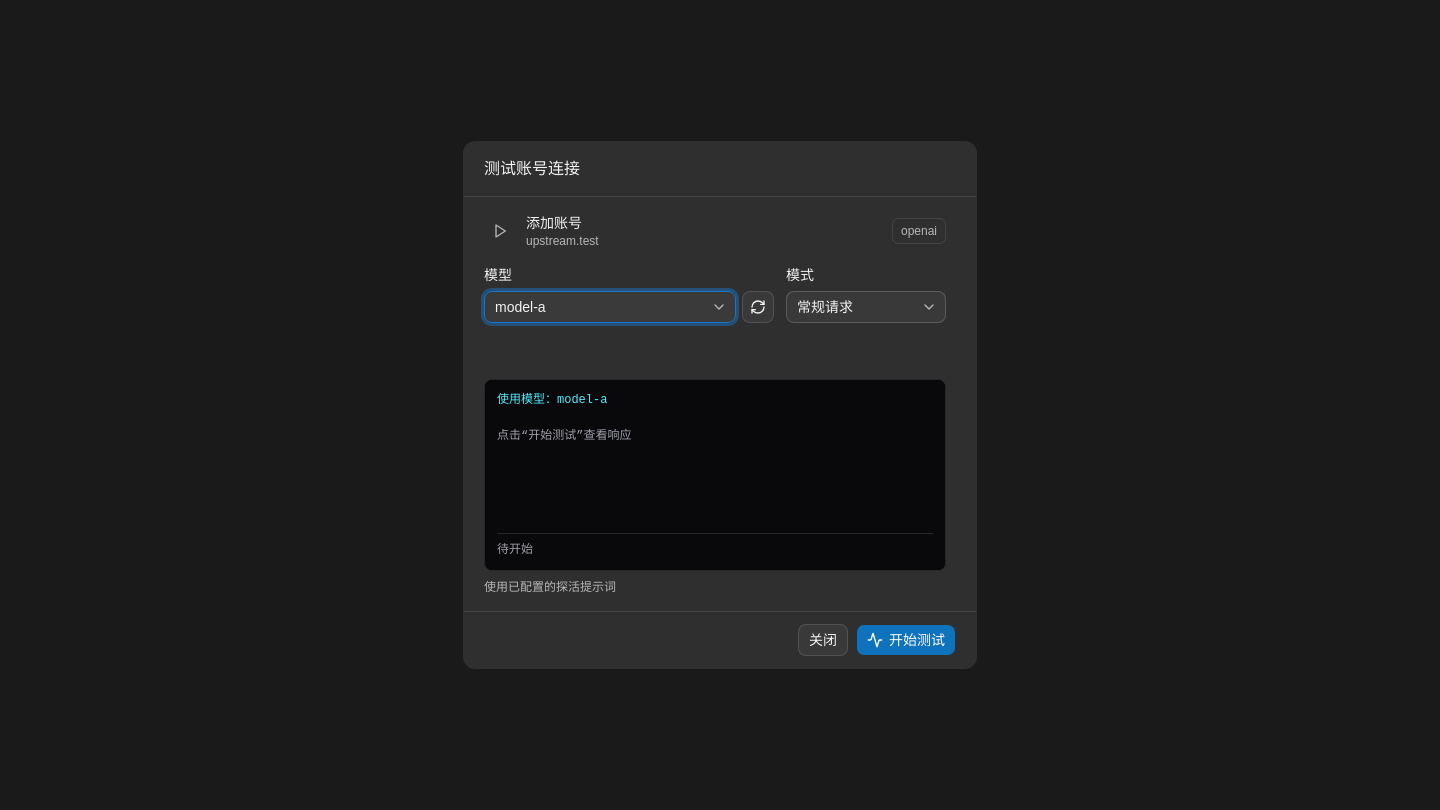
it: 动画生成失败时展示实际原因，保留重试入口且不显示预览
Expected: the button "开始测试" is enabled, top-left (856, 624), bottom-right (956, 656)
Click the dropdown named "选择测试模式": coordinates (866, 307) top-left (786, 291), bottom-right (946, 323)
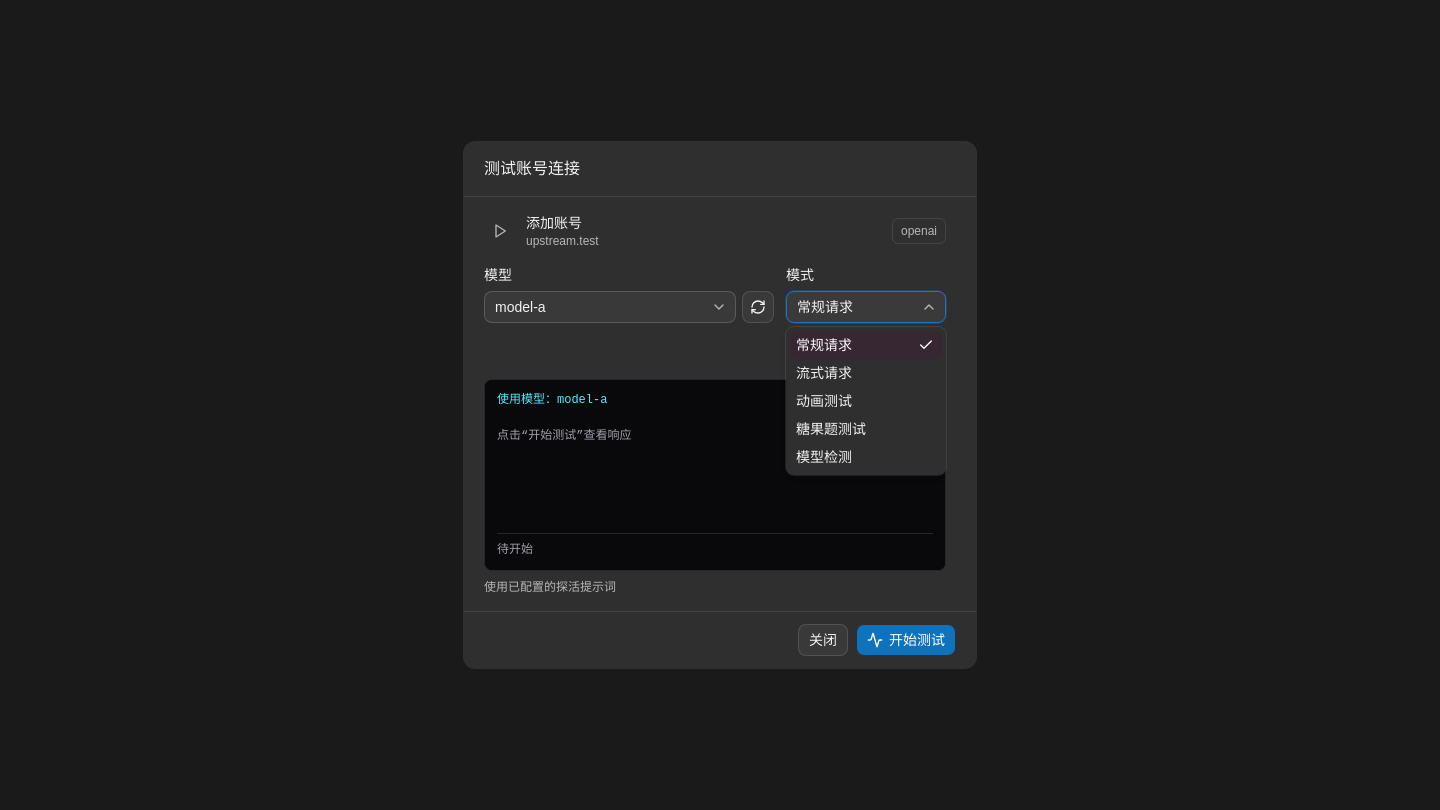
Click the option "动画测试": coordinates (824, 401) top-left (796, 393), bottom-right (852, 409)
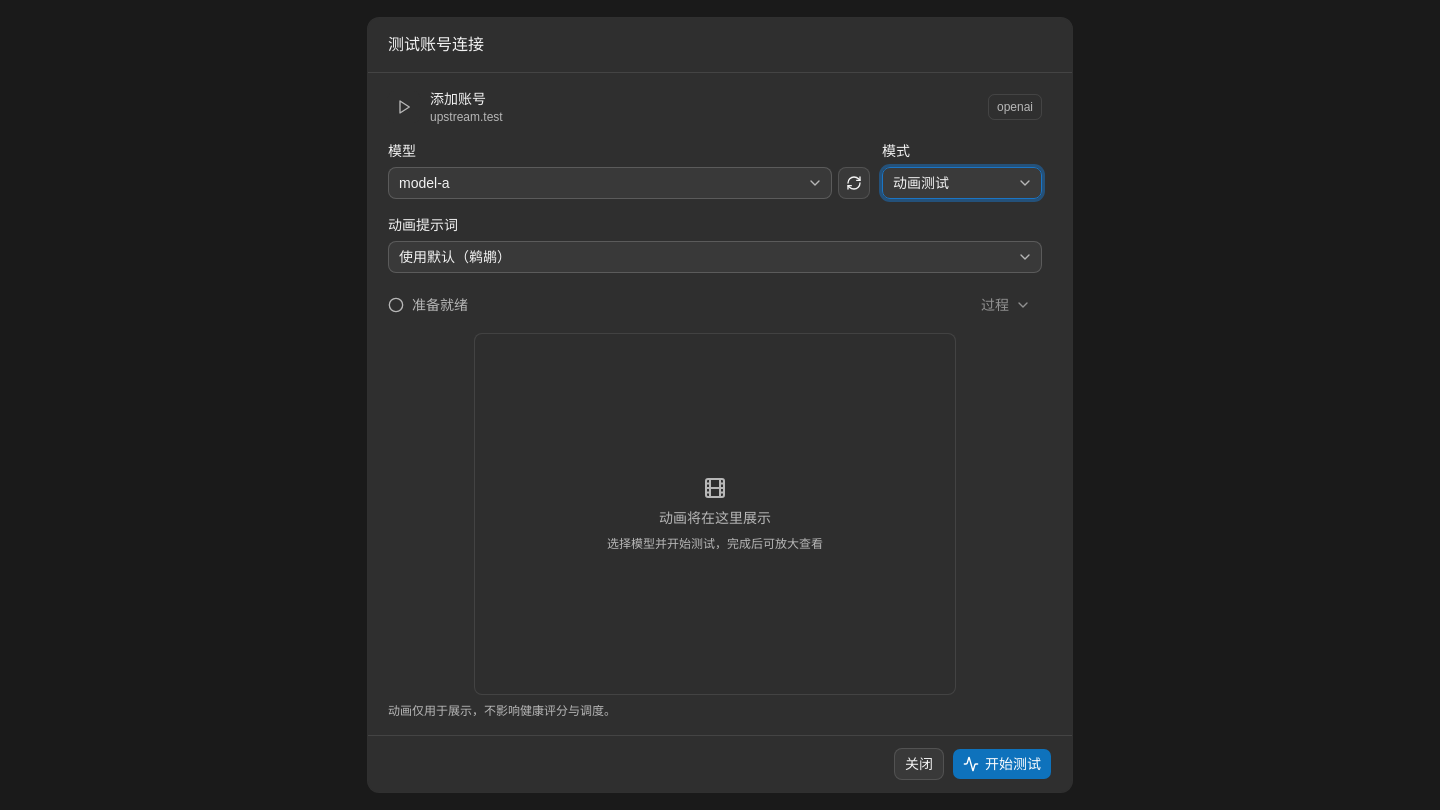
Click the button "开始测试": coordinates (1002, 764) top-left (952, 748), bottom-right (1052, 780)
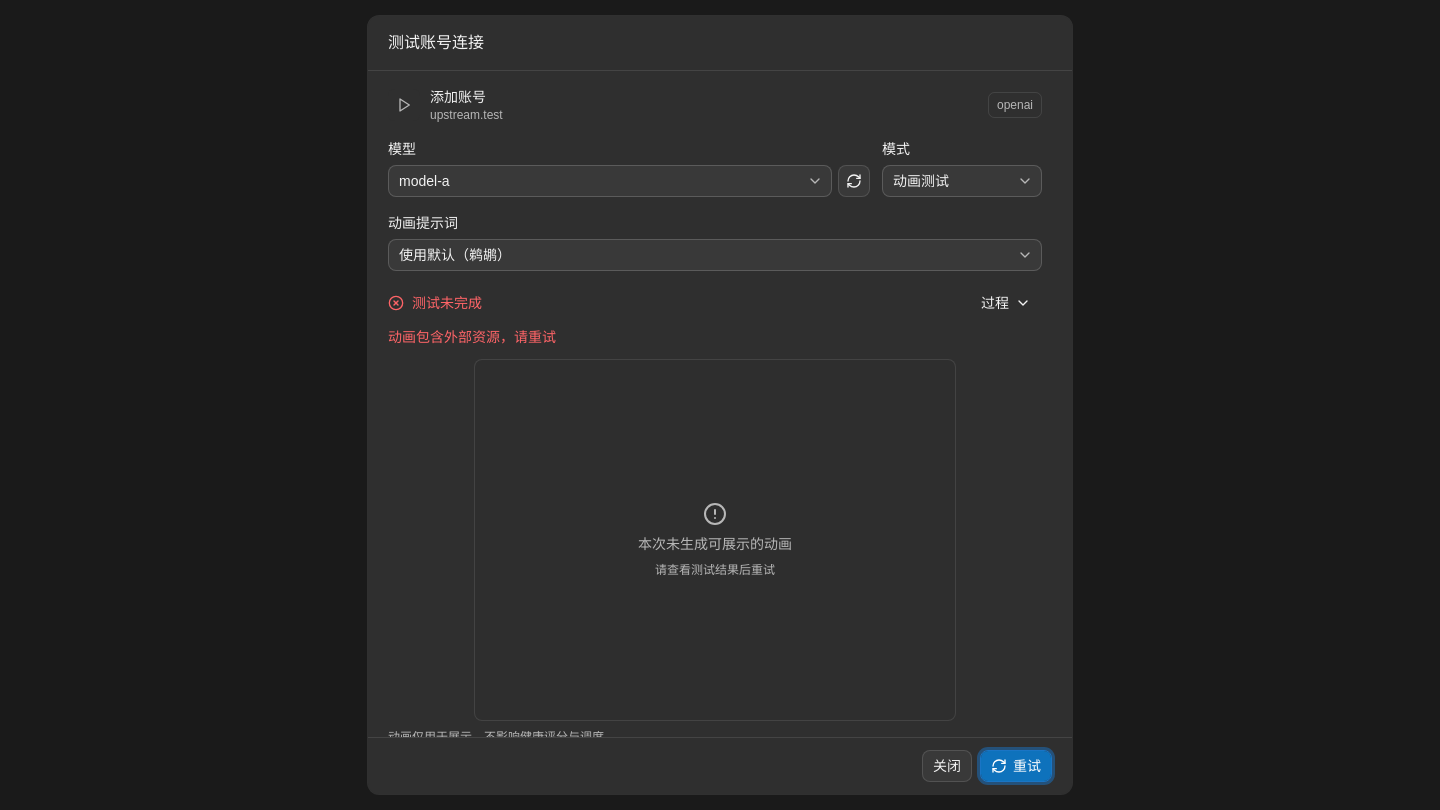
Expected: the button "重试" is enabled, top-left (980, 750), bottom-right (1052, 782)
Result: the text "动画包含外部资源，请重试" is shown at top-left (388, 329), bottom-right (556, 345)
